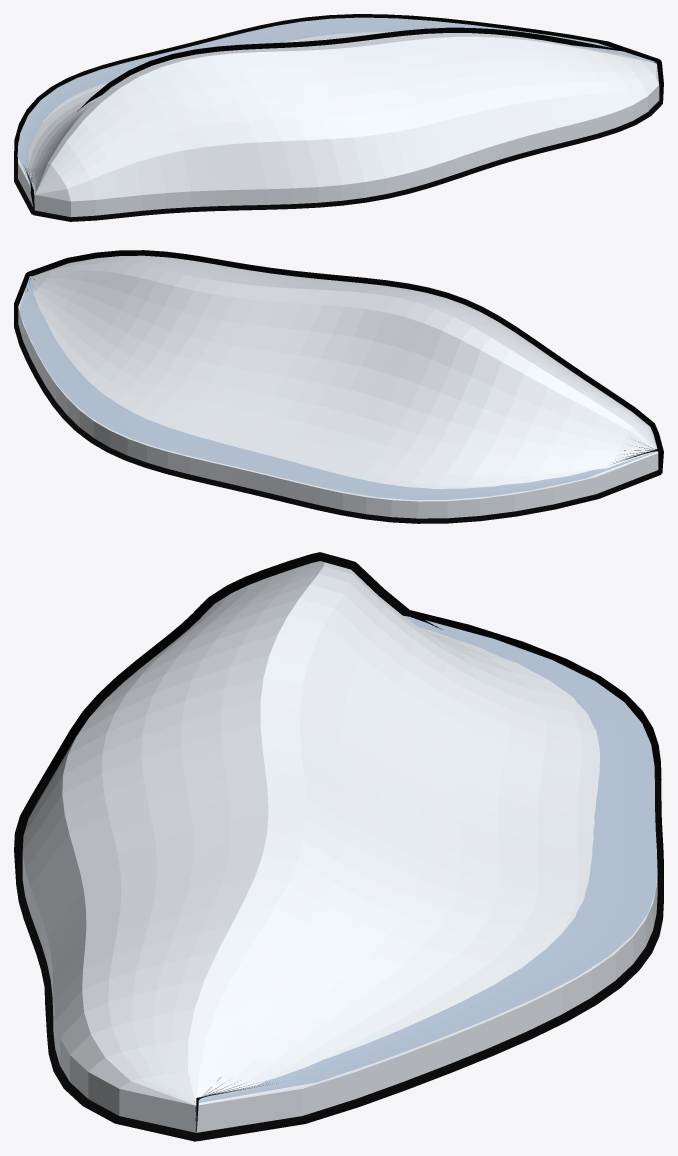
Rendered from Tundra_Sastrugi.glb.
The picture shows the model from 3 angles, top to bottom: view 1: azimuth 30°, elevation 25°; view 2: azimuth 150°, elevation 25°; view 3: azimuth 270°, elevation 25°; orthographic projection. The views are drawn at different scales.
Parts seen in each view (by area): view 1: Tundra_Sastrugi_Body, Tundra_Sastrugi_OutlineHull, Tundra_Sastrugi_Lee; view 2: Tundra_Sastrugi_Body, Tundra_Sastrugi_Lee, Tundra_Sastrugi_OutlineHull; view 3: Tundra_Sastrugi_Body, Tundra_Sastrugi_Lee, Tundra_Sastrugi_OutlineHull.
Part boxes in pixels (box(x1,y1,x2,y2)): Tundra_Sastrugi_Body: box(18, 31, 659, 217); Tundra_Sastrugi_OutlineHull: box(14, 14, 663, 221); Tundra_Sastrugi_Lee: box(17, 17, 655, 192); Tundra_Sastrugi_Body: box(18, 255, 658, 518); Tundra_Sastrugi_Lee: box(19, 276, 657, 499); Tundra_Sastrugi_OutlineHull: box(14, 250, 663, 523); Tundra_Sastrugi_Body: box(22, 561, 657, 1132); Tundra_Sastrugi_Lee: box(198, 615, 657, 1102); Tundra_Sastrugi_OutlineHull: box(14, 552, 663, 1141).
Size of the model in its own units: 6.07 by 1.08 by 3.25.
